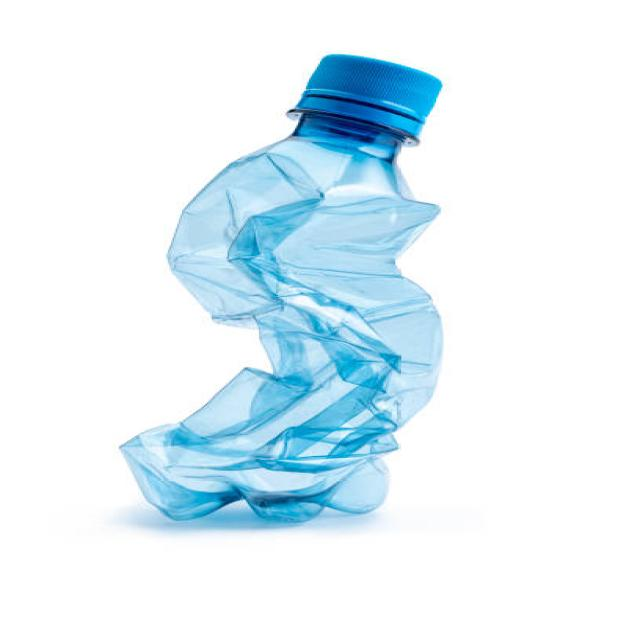plastic: (121, 48, 474, 530)
